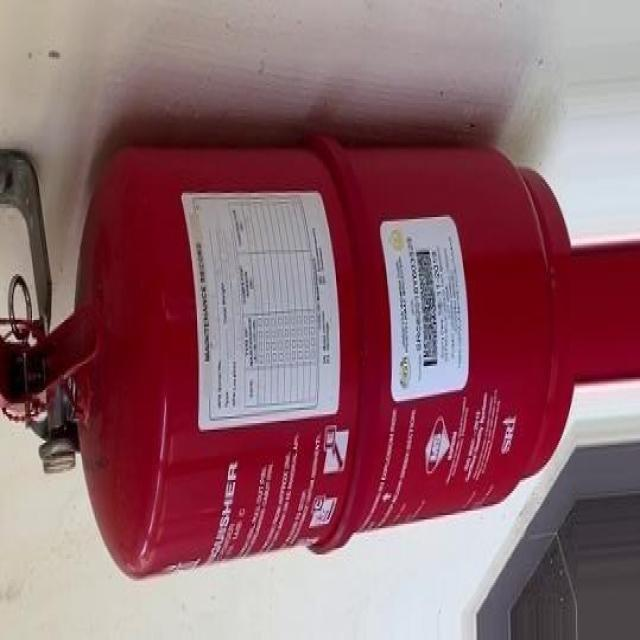fire_extinguisher: (0, 122, 577, 586)
